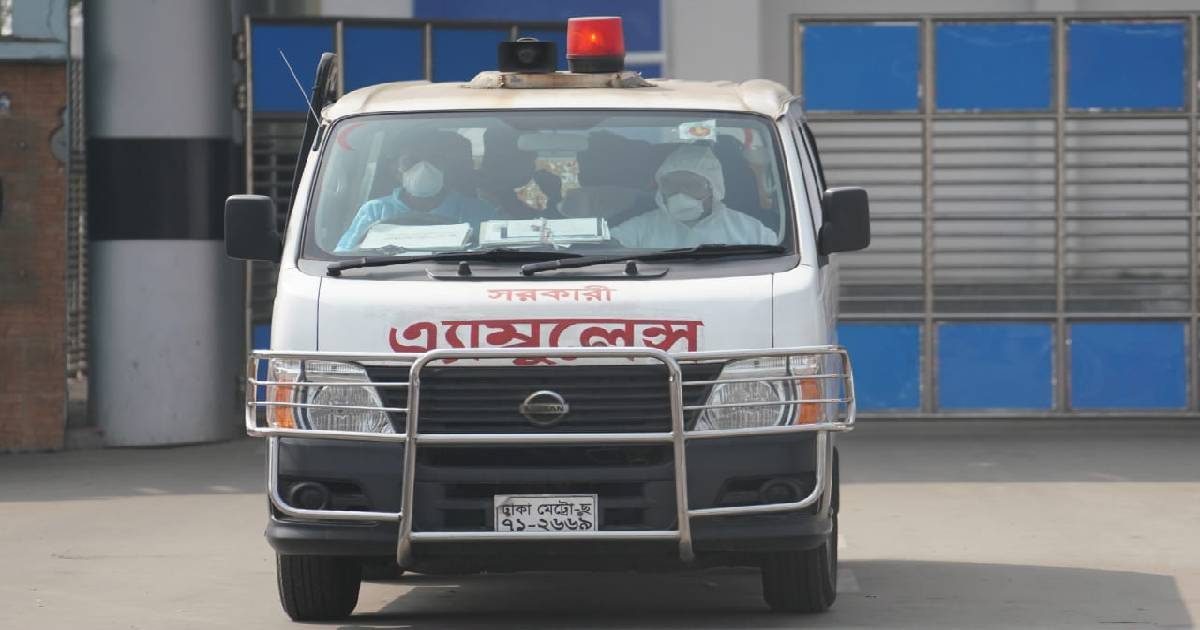ambulance: (223, 14, 870, 618)
